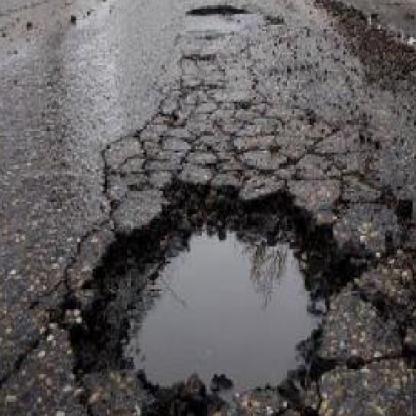pothole: (67, 174, 361, 400), (188, 0, 246, 18)
